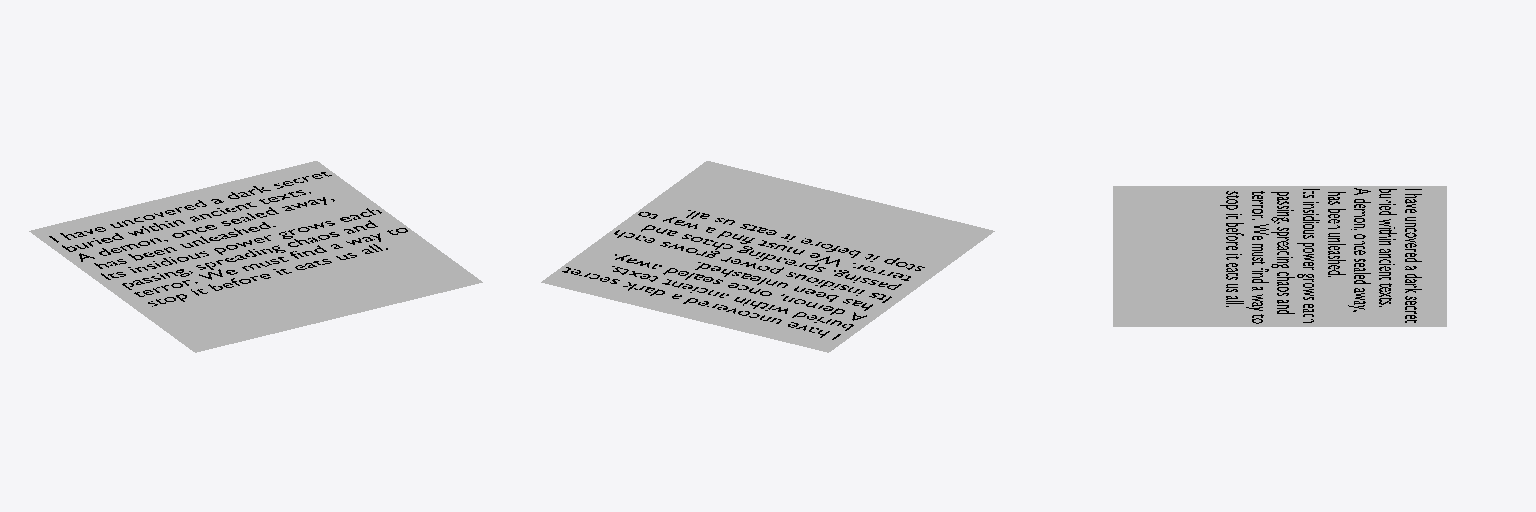
The model's file is note_1.obj.
The picture shows the model from 3 angles: view 1: azimuth 30°, elevation 25°; view 2: azimuth 150°, elevation 25°; view 3: azimuth 270°, elevation 25°; orthographic projection.
Parts seen in each view (by area): view 1: Plane, Text; view 2: Plane, Text; view 3: Plane, Text.
Part boxes in pixels (left/top/right/bottom): Plane: left=29, top=161, right=482, bottom=352; Text: left=49, top=172, right=407, bottom=306; Plane: left=541, top=161, right=994, bottom=352; Text: left=562, top=210, right=924, bottom=339; Plane: left=1113, top=186, right=1446, bottom=326; Text: left=1220, top=188, right=1421, bottom=323.
Bounding box in the file's own units: 2 × 0.01 × 2.